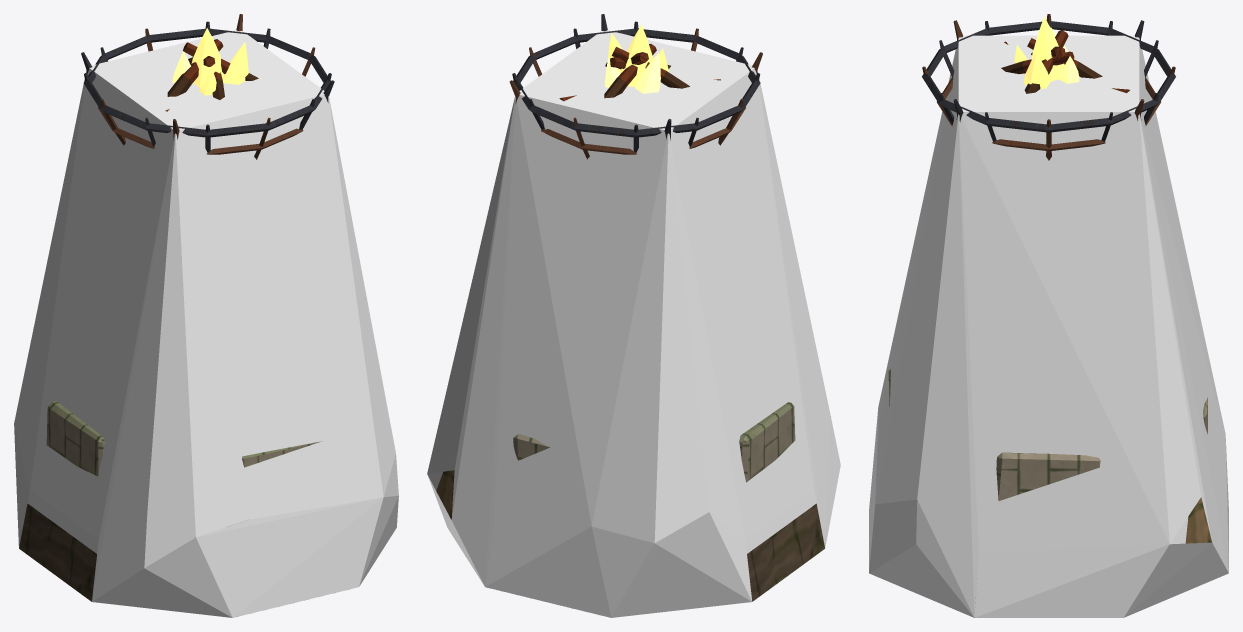
Rendered from coastal_signal_brazier.glb.
3 views of the same model, side by side, from view 1: azimuth 30°, elevation 25°; view 2: azimuth 150°, elevation 25°; view 3: azimuth 270°, elevation 25° (orthographic). The views are drawn at different scales.
Parts seen in each view (by area): view 1: col_brazier, CoastalSignalBrazier; view 2: col_brazier, CoastalSignalBrazier; view 3: col_brazier, CoastalSignalBrazier.
Boxes of the visible parts, x1,y1,x2,y2 form: col_brazier: (14, 30, 398, 617); CoastalSignalBrazier: (19, 14, 334, 601); col_brazier: (427, 30, 840, 617); CoastalSignalBrazier: (436, 14, 824, 601); col_brazier: (869, 35, 1228, 617); CoastalSignalBrazier: (888, 14, 1211, 617).
Size of the model in its own units: 4.4 by 7.07 by 4.4.
7 materials, 5 textured.
